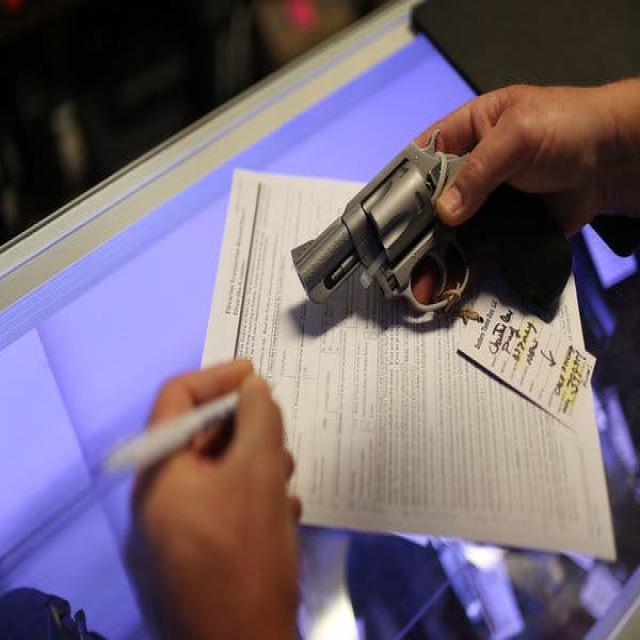HandGun: (291, 130, 573, 323)
